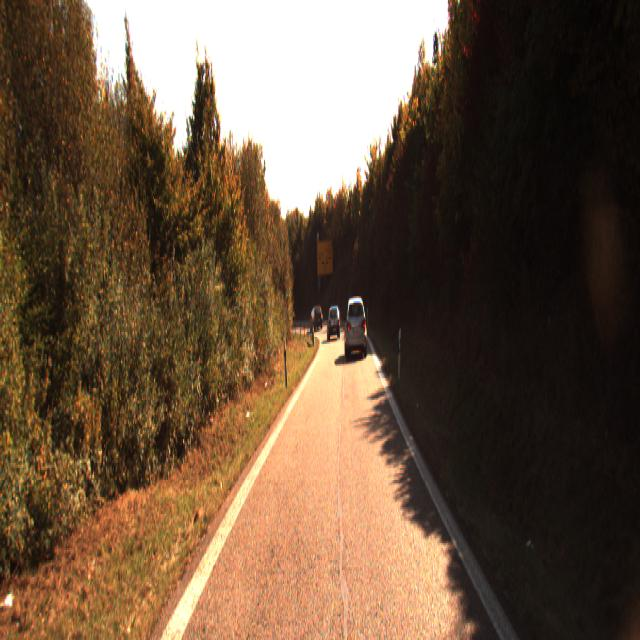Car: (344, 294, 367, 356), (327, 304, 340, 338), (309, 306, 323, 330)
